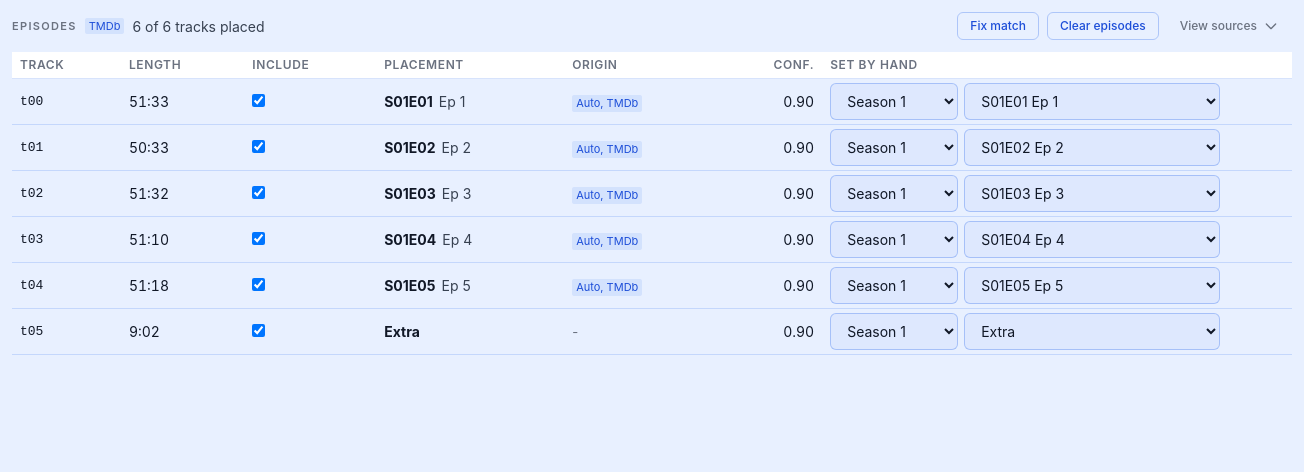
Test case: EpisodeMatchPanel actions › discard and field changes drop the preview
Click the button "Fix match" at (998, 26), box [957, 12, 1039, 40]
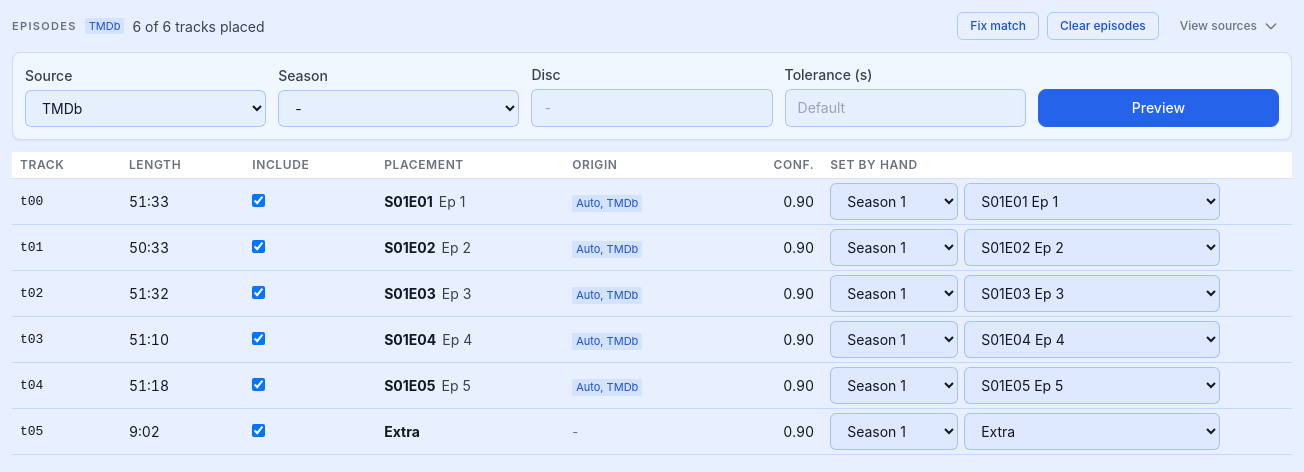
Click the button "Preview" at (1158, 108), box [1038, 89, 1279, 127]
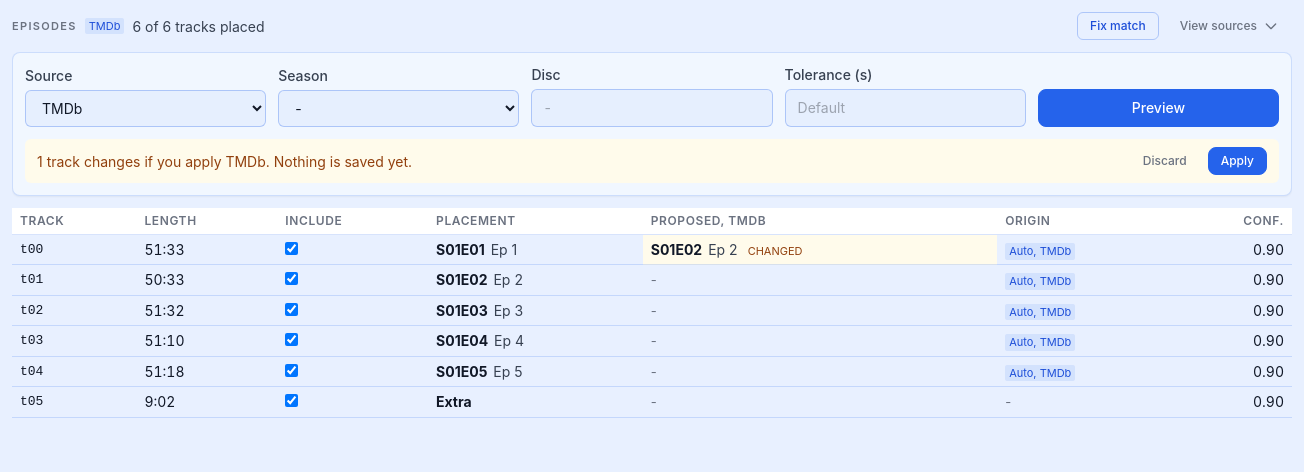
Now the text "1 track changes if you apply TMDb. Nothing is saved yet." is shown, box [37, 150, 412, 172]
Click the button "Discard" at (1165, 161), box [1130, 147, 1200, 175]
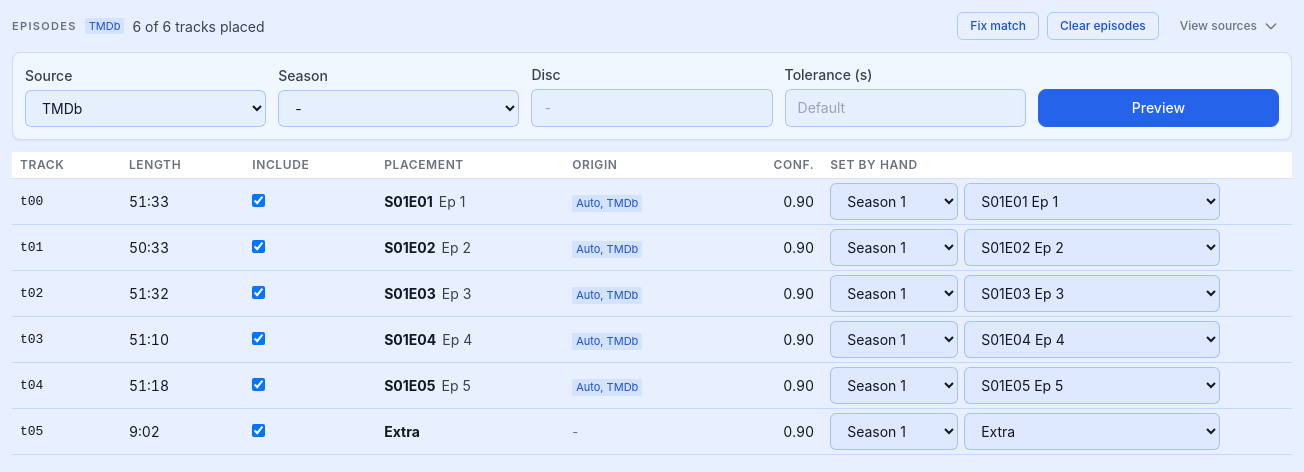
Now the text "1 track changes" is gone
Click the button "Preview" at (1158, 108), box [1038, 89, 1279, 127]
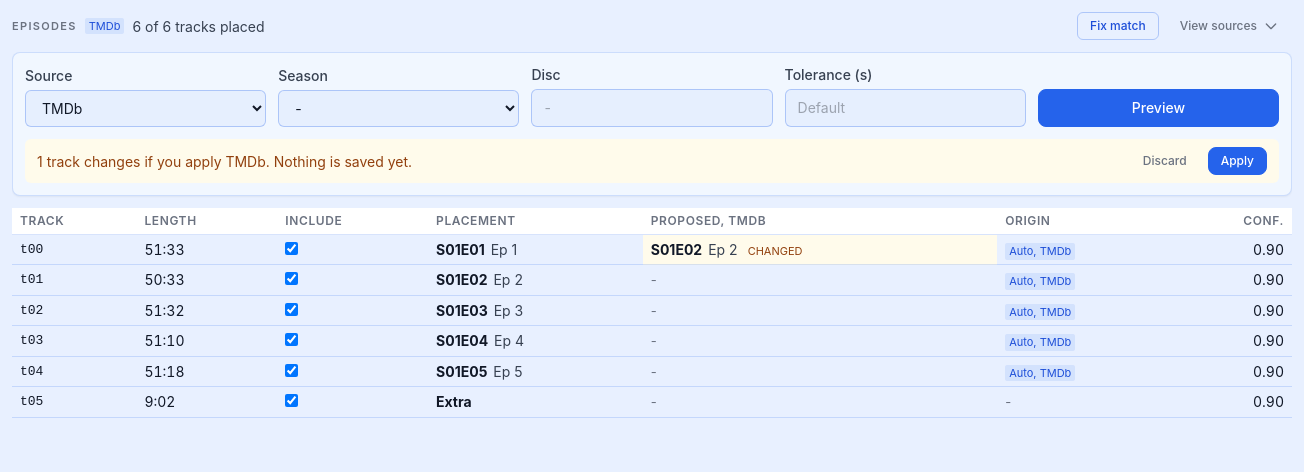
Now the text "1 track changes if you apply TMDb. Nothing is saved yet." is shown, box [37, 150, 412, 172]
Select "Season 2" in the dropdown labelled "Season" at (399, 108), box [278, 90, 519, 127]
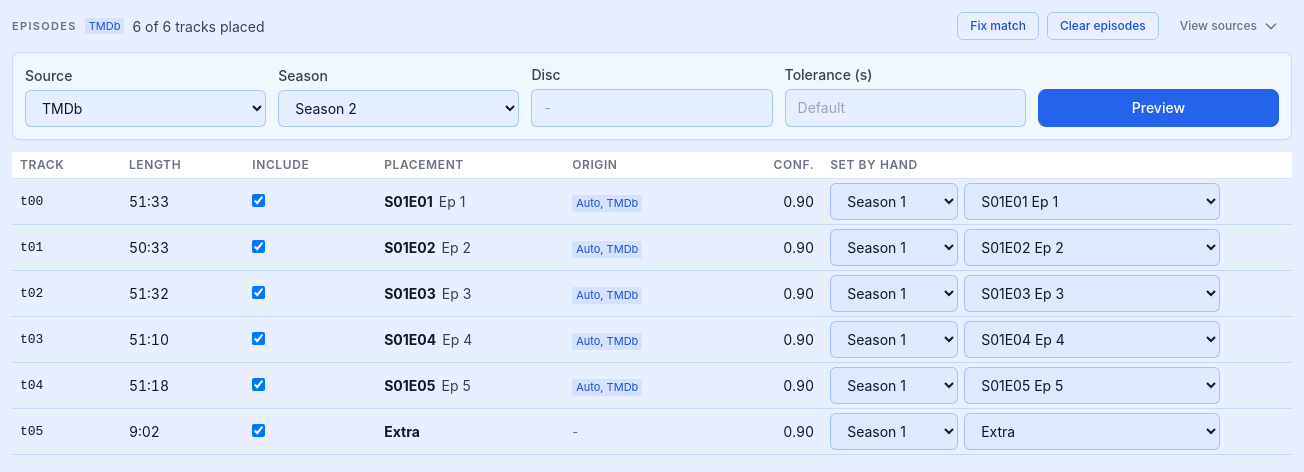
Now the text "1 track changes" is gone
